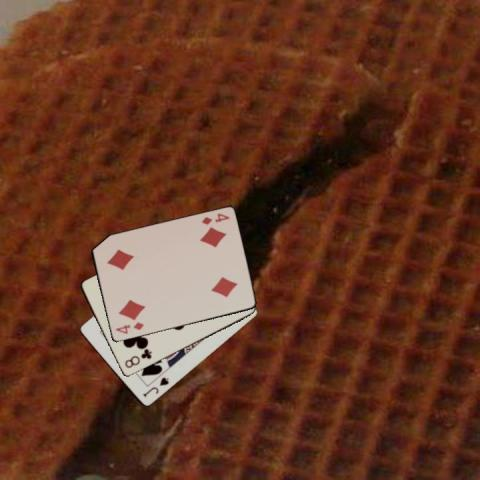4d: (113, 319, 145, 336), (198, 210, 230, 226)
8c: (122, 347, 154, 370)
Js: (140, 375, 171, 399)
